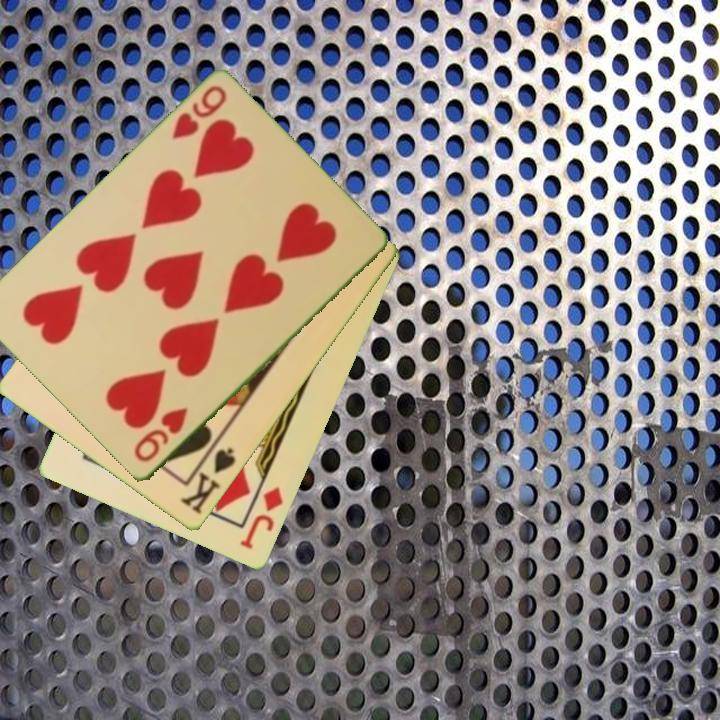9h: (130, 405, 192, 466), (168, 82, 230, 143)
Jd: (236, 483, 287, 553)
Ks: (177, 437, 239, 518)
